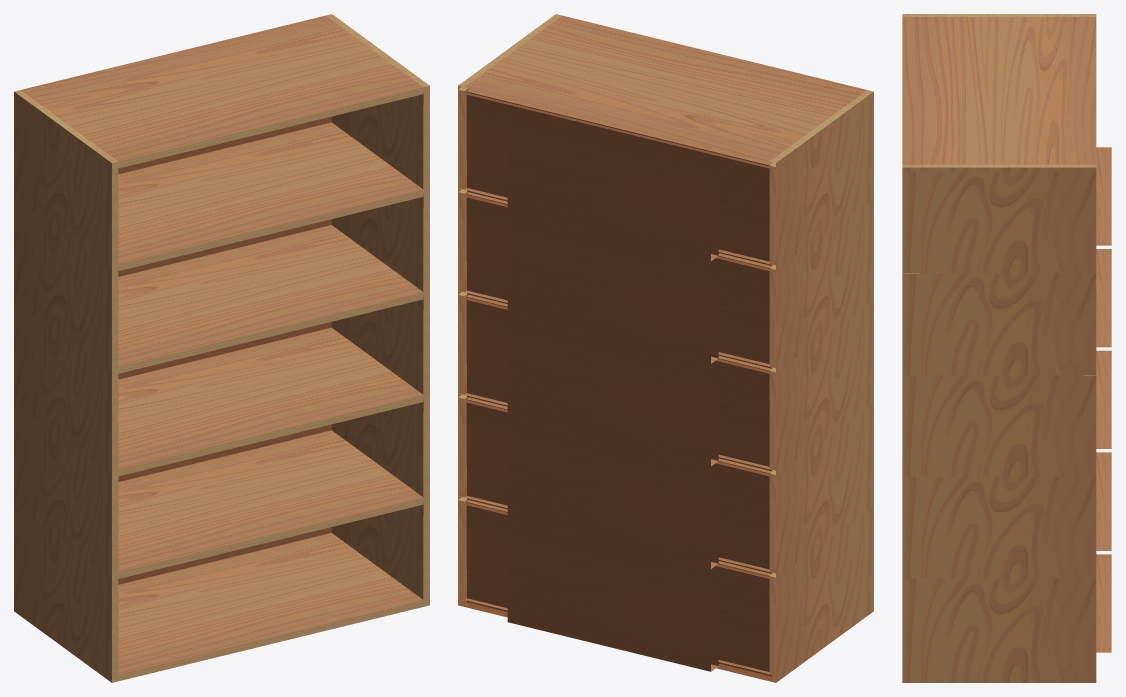
The model's file is layout_wide_5s_open_simple.fbx.
3 renders of one model, left to right at view 1: azimuth 30°, elevation 25°; view 2: azimuth 150°, elevation 25°; view 3: azimuth 270°, elevation 25°, orthographic.
Parts seen in each view (by area): view 1: Shelf-TM-00 4, Shelf-BM-00, Shelf-BM-00 4, Shelf-BM-00 2, Shelf-BM-00 1, Shelf-BM-00 3, Shelf-CL-01 3, Shelf-CL-01 2, Shelf-CL-01 1, Shelf-CL-01 4, Shelf-CL-01, Shelf-CR-01 1 (+16 smaller); view 2: Shelf-TM-00 4, Shelf-Back-00 (1) 4, Shelf-Back-00 (1) 1, Shelf-Back-00 (1) 2, Shelf-Back-00 (1), Shelf-Back-00 (1) 3, Shelf-Back-00 4, Shelf-CL-01, Shelf-CL-01 1, Shelf-CL-01 3, Shelf-CL-01 4, Shelf-CL-01 2 (+13 smaller); view 3: Shelf-TM-00 4, Shelf-CR-01 4, Shelf-CR-01 2, Shelf-CR-01 3, Shelf-CR-01, Shelf-CR-01 1, Shelf-Back-00 (1), Shelf-Back-00 (1) 1, Shelf-Back-00 (1) 2, Shelf-Back-00 (1) 3, Shelf-Back-00 (1) 4, Shelf-CR-00 (1) 4 (+10 smaller).
Boxes of the visible parts, x1,y1,x2,y2 form: Shelf-TM-00 4: (21,15,423,168); Shelf-BM-00: (118,533,423,681); Shelf-BM-00 4: (118,122,423,270); Shelf-BM-00 2: (118,327,423,473); Shelf-BM-00 1: (118,430,423,575); Shelf-BM-00 3: (118,225,423,373); Shelf-CL-01 3: (14,198,118,367); Shelf-CL-01 2: (14,301,118,470); Shelf-CL-01 1: (14,403,118,573); Shelf-CL-01 4: (14,96,118,265); Shelf-CL-01: (14,506,118,675); Shelf-CR-01 1: (331,397,429,497); Shelf-TM-00 4: (465,15,866,168); Shelf-Back-00 (1) 4: (507,111,718,261); Shelf-Back-00 (1) 1: (507,419,718,568); Shelf-Back-00 (1) 2: (507,316,718,466); Shelf-Back-00 (1): (507,521,718,671); Shelf-Back-00 (1) 3: (507,213,718,363); Shelf-Back-00 4: (466,89,772,265); Shelf-CL-01: (769,506,873,675); Shelf-CL-01 1: (769,403,873,573); Shelf-CL-01 3: (769,198,873,367); Shelf-CL-01 4: (769,96,873,265); Shelf-CL-01 2: (769,301,873,470); Shelf-TM-00 4: (902,17,1096,164); Shelf-CR-01 4: (902,171,1096,269); Shelf-CR-01 2: (902,375,1096,472); Shelf-CR-01 3: (902,273,1096,370); Shelf-CR-01: (902,578,1096,675); Shelf-CR-01 1: (902,477,1096,574); Shelf-Back-00 (1): (1096,554,1111,652); Shelf-Back-00 (1) 1: (1096,452,1111,550); Shelf-Back-00 (1) 2: (1096,350,1111,448); Shelf-Back-00 (1) 3: (1096,249,1111,347); Shelf-Back-00 (1) 4: (1096,147,1111,245); Shelf-CR-00 (1) 4: (902,164,1096,171).
Size of the model in its own units: 150 by 234 by 86.3.
